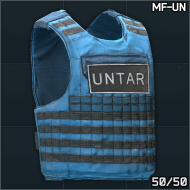MF-UNTAR body armor: (0, 0, 190, 190)
